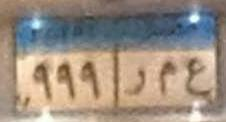9: (78, 58, 103, 101), (29, 62, 52, 105), (55, 59, 76, 99)
ain: (183, 58, 214, 102)
meem: (156, 58, 178, 101)
raa: (120, 63, 148, 101)
